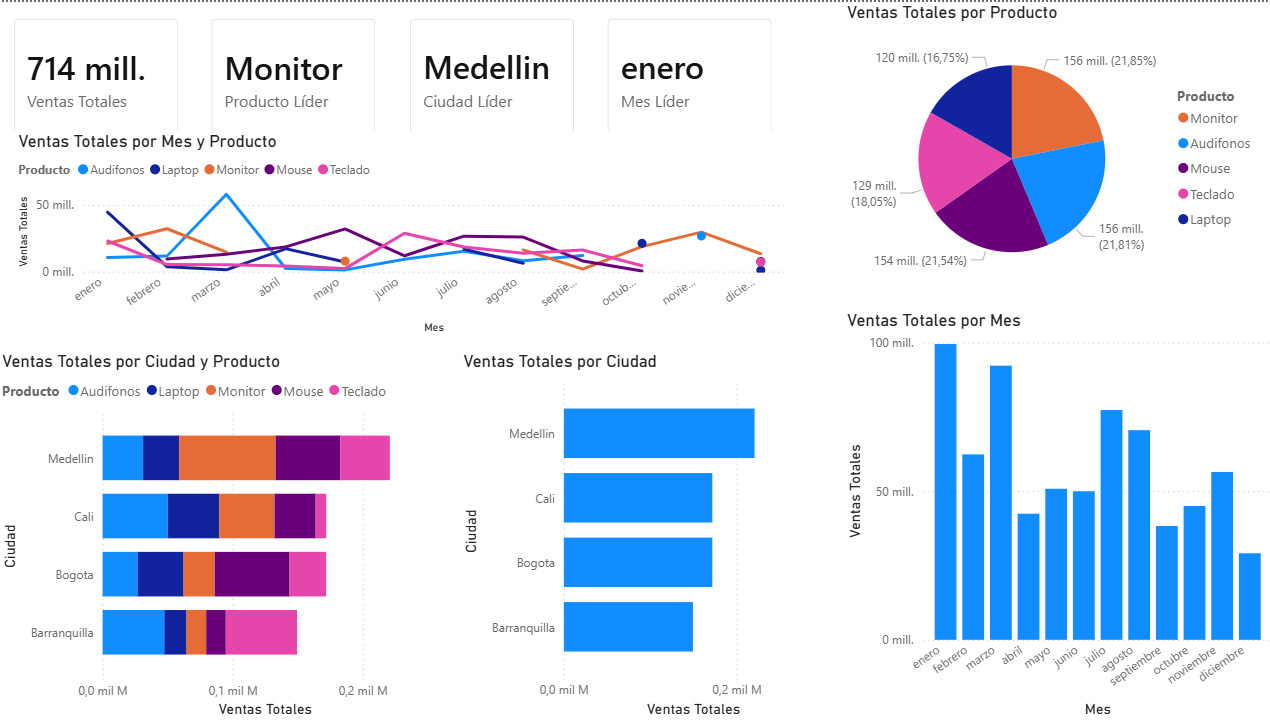

What the dashboard file says about the page in this screenshot:
{"tool":"powerbi","page":{"name":"Página 1","canvas":[1280,720],"ordinal":0},"visuals":[{"type":"barChart","fields":{"Category":["dataset_ventas.Ciudad"],"Y":["dataset_ventas.Ventas Totales"]},"box":[461,348.5,395,371.7],"z":1},{"type":"clusteredColumnChart","fields":{"Category":["dataset_ventas.Fecha.Variación.Jerarquía de fechas.Mes","dataset_ventas.Fecha.Variación.Jerarquía de fechas.Día"],"Y":["dataset_ventas.Ventas Totales"]},"box":[845,306.9,435.3,413.3],"z":2},{"type":"pieChart","fields":{"Category":["dataset_ventas.Producto"],"Y":["dataset_ventas.Ventas Totales"]},"box":[845,0,423.1,294.7],"z":4},{"type":"cardVisual","fields":{"Data":["dataset_ventas.Ventas Totales"]},"box":[0,0,198.1,150.4],"z":5},{"type":"barChart","fields":{"Category":["dataset_ventas.Ciudad"],"Y":["dataset_ventas.Ventas Totales"],"Series":["dataset_ventas.Producto"]},"box":[0,348.5,461,371.7],"z":6},{"type":"cardVisual","fields":{"Data":["dataset_ventas.Producto Líder"]},"box":[198.1,0,198.1,150.4],"z":7},{"type":"cardVisual","fields":{"Data":["dataset_ventas.Ciudad Líder"]},"box":[396.2,0,198.1,149.2],"z":8},{"type":"cardVisual","fields":{"Data":["dataset_ventas.Mes Líder"]},"box":[594.3,0,198.1,149.2],"z":9},{"type":"lineChart","fields":{"Category":["dataset_ventas.Fecha.Variación.Jerarquía de fechas.Mes"],"Series":["dataset_ventas.Producto"],"Y":["dataset_ventas.Ventas Totales"]},"box":[15.9,128.4,776.5,207.9],"z":10}]}

Visuals, with their boxes in screenshot pixels (x1, y1, x2, y2), scaled from the page's 1280x720 canvas onto the 1270x721 screenshot:
barChart - dataset_ventas.Ciudad x dataset_ventas.Ventas Totales: (left=457, top=349, right=849, bottom=720)
clusteredColumnChart - dataset_ventas.Fecha.Variación.Jerarquía de fechas.Mes x dataset_ventas.Fecha.Variación.Jerarquía de fechas.Día: (left=838, top=307, right=1269, bottom=720)
pieChart - dataset_ventas.Producto x dataset_ventas.Ventas Totales: (left=838, top=0, right=1258, bottom=295)
cardVisual - dataset_ventas.Ventas Totales: (left=0, top=0, right=197, bottom=151)
barChart - dataset_ventas.Ciudad x dataset_ventas.Ventas Totales: (left=0, top=349, right=457, bottom=720)
cardVisual - dataset_ventas.Producto Líder: (left=197, top=0, right=393, bottom=151)
cardVisual - dataset_ventas.Ciudad Líder: (left=393, top=0, right=590, bottom=149)
cardVisual - dataset_ventas.Mes Líder: (left=590, top=0, right=786, bottom=149)
lineChart - dataset_ventas.Fecha.Variación.Jerarquía de fechas.Mes x dataset_ventas.Producto: (left=16, top=129, right=786, bottom=337)
